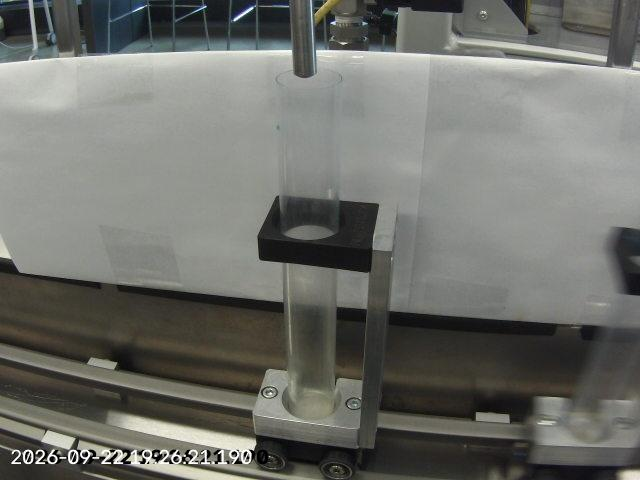vial: (257, 61, 373, 424)
